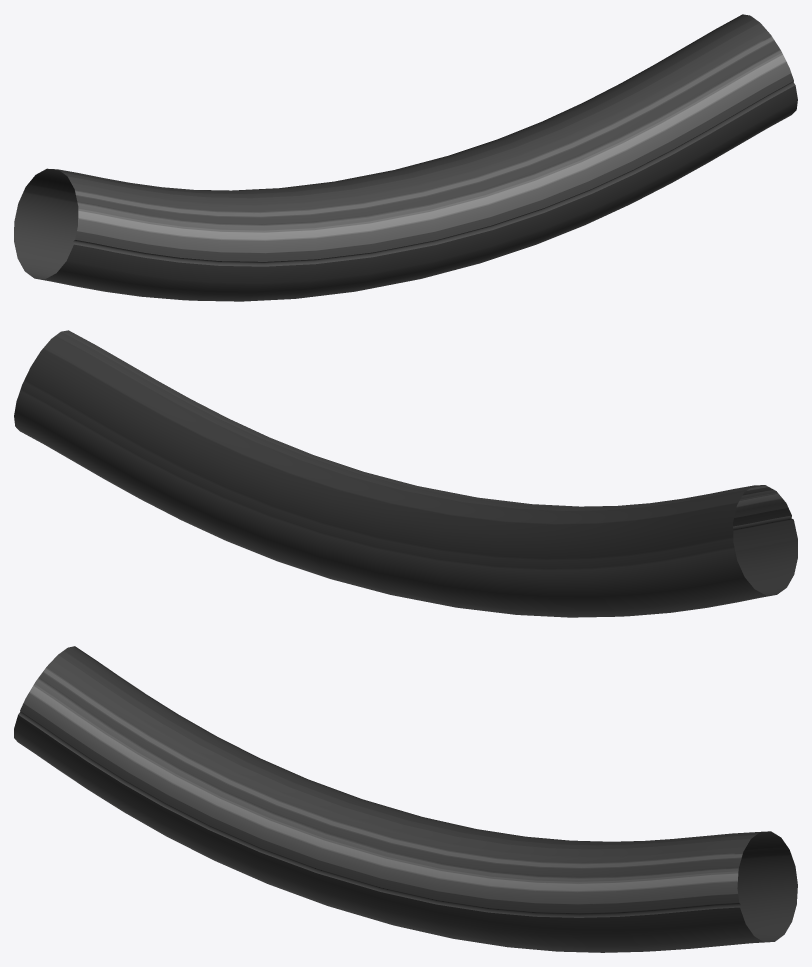
Rendered from SM_Wire_Giant_Black.fbx.
3 renders of one model, top to bottom at view 1: azimuth 30°, elevation 25°; view 2: azimuth 150°, elevation 25°; view 3: azimuth 330°, elevation 25°, orthographic.
Parts seen in each view (by area): view 1: Sm_Wire_Giant_Black; view 2: Sm_Wire_Giant_Black; view 3: Sm_Wire_Giant_Black.
Boxes of the visible parts, x1,y1,x2,y2 form: Sm_Wire_Giant_Black: (14,14,797,301); Sm_Wire_Giant_Black: (14,330,797,617); Sm_Wire_Giant_Black: (14,646,797,952).
Size of the model in its own units: 11.13 by 6.12 by 47.01.
1 material, 1 textured.
